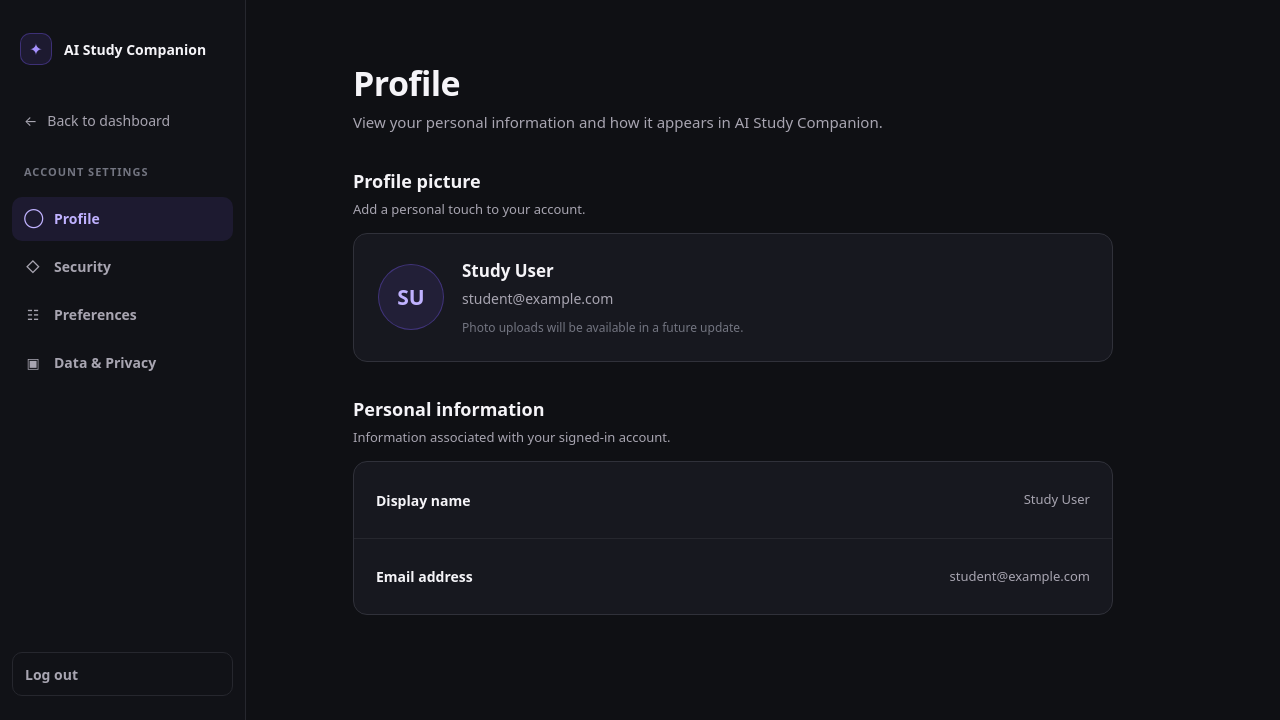
Test case: Account settings workspace › returns to dashboard with the main app sidebar restored
Click the link "← Back to dashboard" at x=97, y=120, box [24,110,170,130]
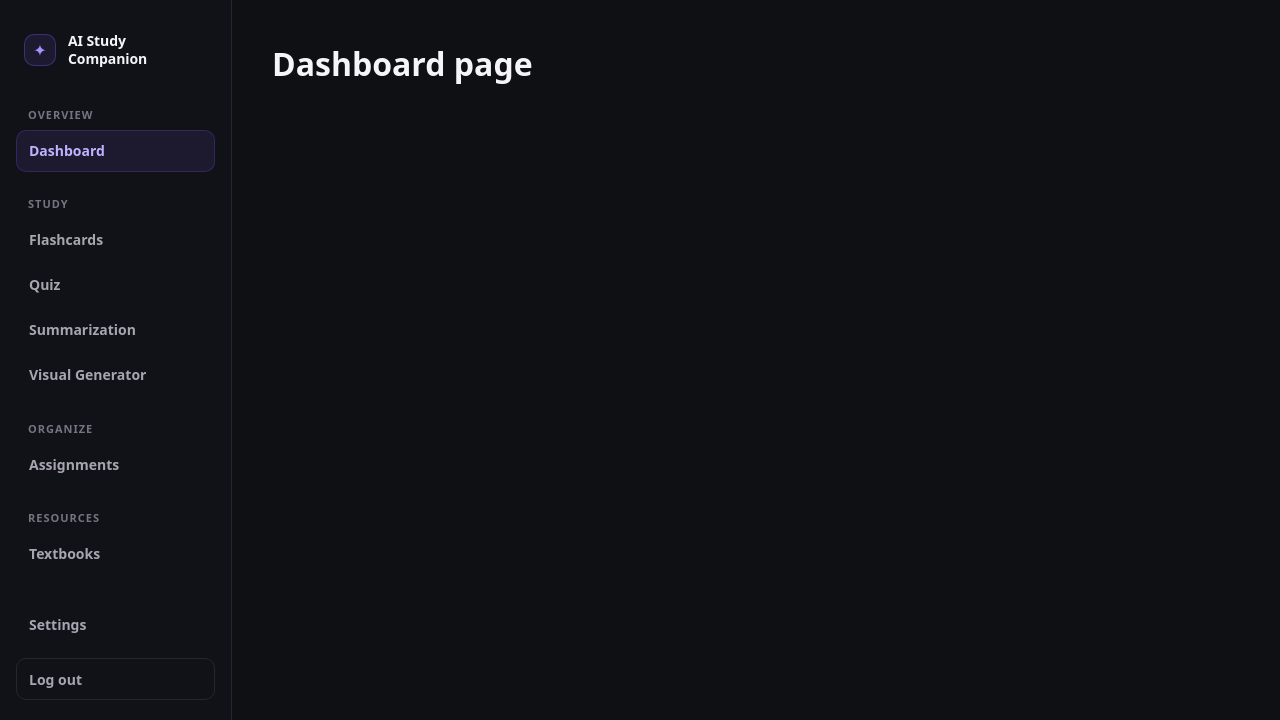
Check: the heading "Dashboard page" is shown, box [272,42,532,85]
Check: the element named "Application navigation" is shown, box [0,0,232,719]
